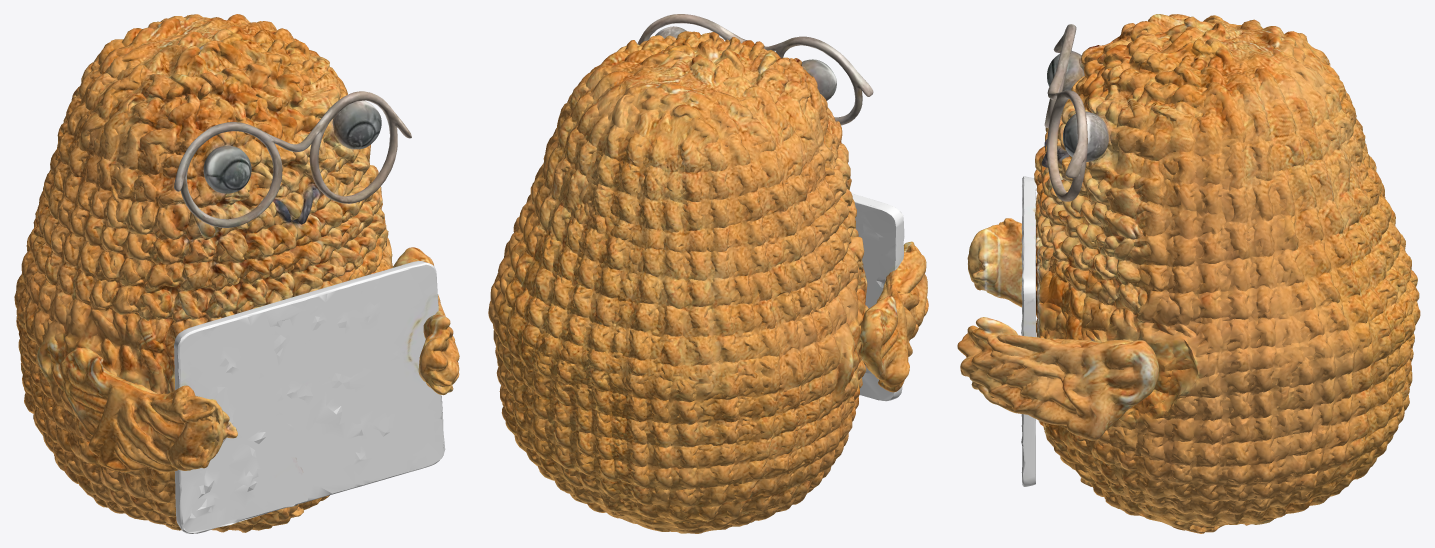
File: spud.glb
The picture shows the model from 3 angles, left to right: view 1: azimuth 30°, elevation 25°; view 2: azimuth 150°, elevation 25°; view 3: azimuth 270°, elevation 25°; orthographic projection. The views are drawn at different scales.
Visible parts, largest first — view 1: body, card, handL, trim, handR, eyeR, eyeL; view 2: body, handL, card, trim, eyeL; view 3: body, handR, handL, trim, card, eyeR, eyeL.
Boxes of the visible parts, x1,y1,x2,y2 form: body: (14, 14, 392, 532); card: (174, 261, 445, 533); handL: (59, 347, 237, 472); trim: (174, 91, 411, 227); handR: (392, 247, 459, 395); eyeR: (332, 100, 381, 149); eyeL: (203, 145, 251, 193); body: (488, 31, 868, 533); handL: (859, 241, 928, 392); card: (851, 193, 904, 401); trim: (637, 14, 873, 125); eyeL: (802, 59, 836, 100); body: (1034, 14, 1420, 533); handR: (957, 317, 1158, 440); handL: (967, 218, 1036, 307); trim: (1044, 24, 1087, 201); card: (1021, 176, 1035, 486); eyeR: (1063, 111, 1109, 161); eyeL: (1047, 50, 1084, 91).
Bounding box in the file's own units: 1.47 × 1.9 × 1.66.
7 materials, 7 textured.
